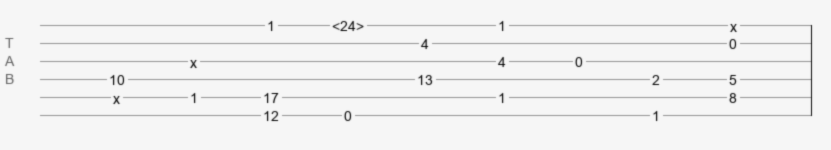0: (344, 108, 352, 118), (575, 54, 583, 64), (729, 36, 737, 46)
1: (190, 90, 198, 100), (267, 18, 275, 28), (498, 90, 506, 100), (498, 18, 506, 28), (652, 108, 660, 118)
10: (109, 72, 125, 82)
12: (263, 108, 279, 118)
13: (417, 72, 433, 82)
17: (263, 90, 279, 100)
2: (652, 72, 660, 82)
4: (421, 36, 429, 46), (498, 54, 506, 64)
5: (729, 72, 737, 82)
8: (729, 90, 737, 100)
harmonic: (332, 18, 364, 28)
x: (113, 91, 120, 99), (190, 55, 197, 63), (730, 19, 737, 27)
